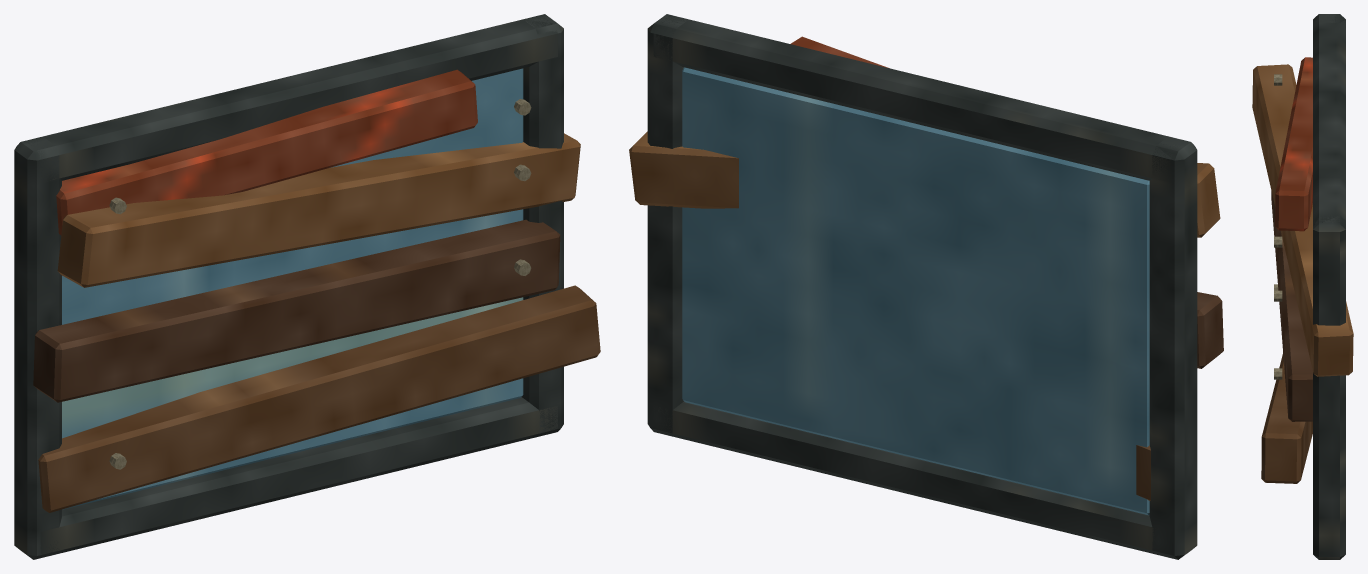
The model's file is SH_POC_BoardedWindow.fbx.
The picture shows the model from 3 angles, left to right: view 1: azimuth 30°, elevation 25°; view 2: azimuth 150°, elevation 25°; view 3: azimuth 270°, elevation 25°; orthographic projection. The views are drawn at different scales.
Visible parts, largest first — view 1: SH_POC_BoardedWindow; view 2: SH_POC_BoardedWindow; view 3: SH_POC_BoardedWindow.
Boxes of the visible parts, x1,y1,x2,y2 form: SH_POC_BoardedWindow: [14, 14, 600, 559]; SH_POC_BoardedWindow: [629, 14, 1223, 559]; SH_POC_BoardedWindow: [1252, 14, 1353, 559].
Size of the model in its own units: 1.59 by 1.12 by 0.3057.
1 material, 1 textured.
